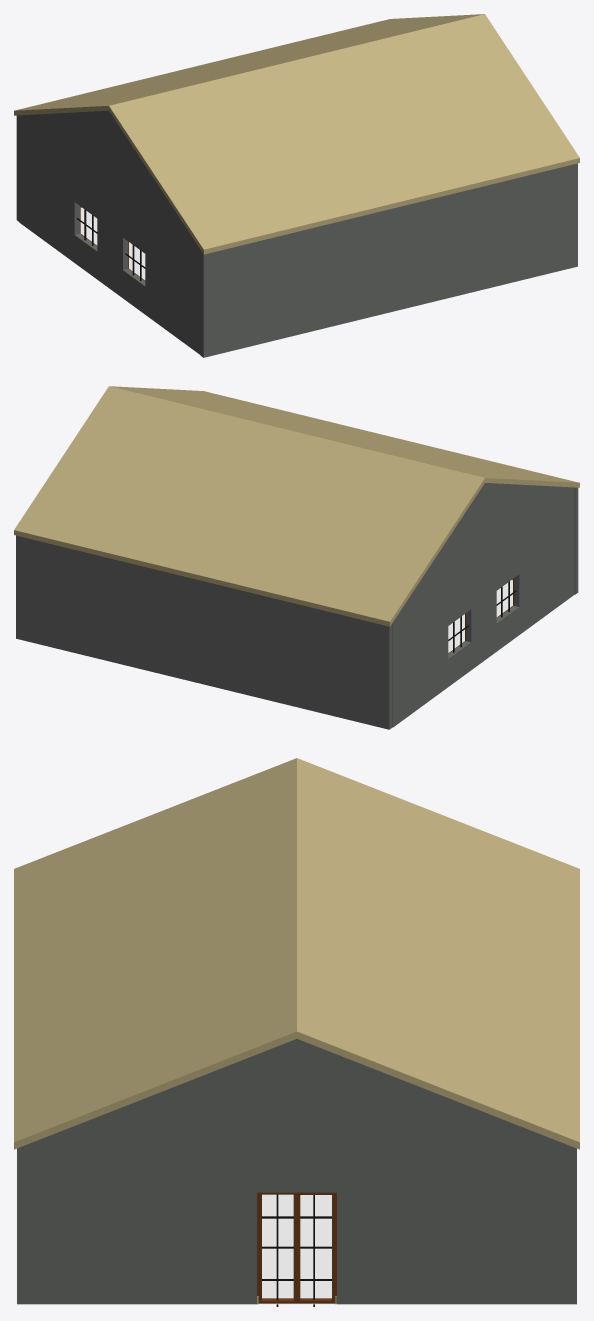
The model's file is art_gallery.glb.
The picture shows the model from 3 angles, top to bottom: view 1: azimuth 30°, elevation 25°; view 2: azimuth 150°, elevation 25°; view 3: azimuth 270°, elevation 25°; orthographic projection. The views are drawn at different scales.
Visible parts, largest first — view 1: Cube.016_27, wall01_109, wall03_111, Plane_71; view 2: Cube.016_27, wall02_110, wall03_111, Plane_71, wall01_109; view 3: Cube.016_27, wall04_112, Plane_71, Cube.002_13, wall01_109, wall02_110.
Part boxes in pixels (x1=…): Cube.016_27: x1=14, y1=14, x2=579, y2=254; wall01_109: x1=200, y1=163, x2=577, y2=357; wall03_111: x1=19, y1=110, x2=200, y2=354; Plane_71: x1=80, y1=208, x2=145, y2=279; Cube.016_27: x1=14, y1=386, x2=579, y2=626; wall02_110: x1=16, y1=535, x2=392, y2=729; wall03_111: x1=392, y1=483, x2=574, y2=727; Plane_71: x1=448, y1=580, x2=512, y2=652; wall01_109: x1=574, y1=487, x2=578, y2=594; Cube.016_27: x1=14, y1=758, x2=579, y2=1149; wall04_112: x1=26, y1=1039, x2=567, y2=1304; Plane_71: x1=259, y1=1194, x2=334, y2=1304; Cube.002_13: x1=257, y1=1192, x2=336, y2=1303; wall01_109: x1=17, y1=1145, x2=25, y2=1304; wall02_110: x1=568, y1=1145, x2=576, y2=1304.
Bounding box in the file's own units: 17.61 × 8.34 × 15.41.
